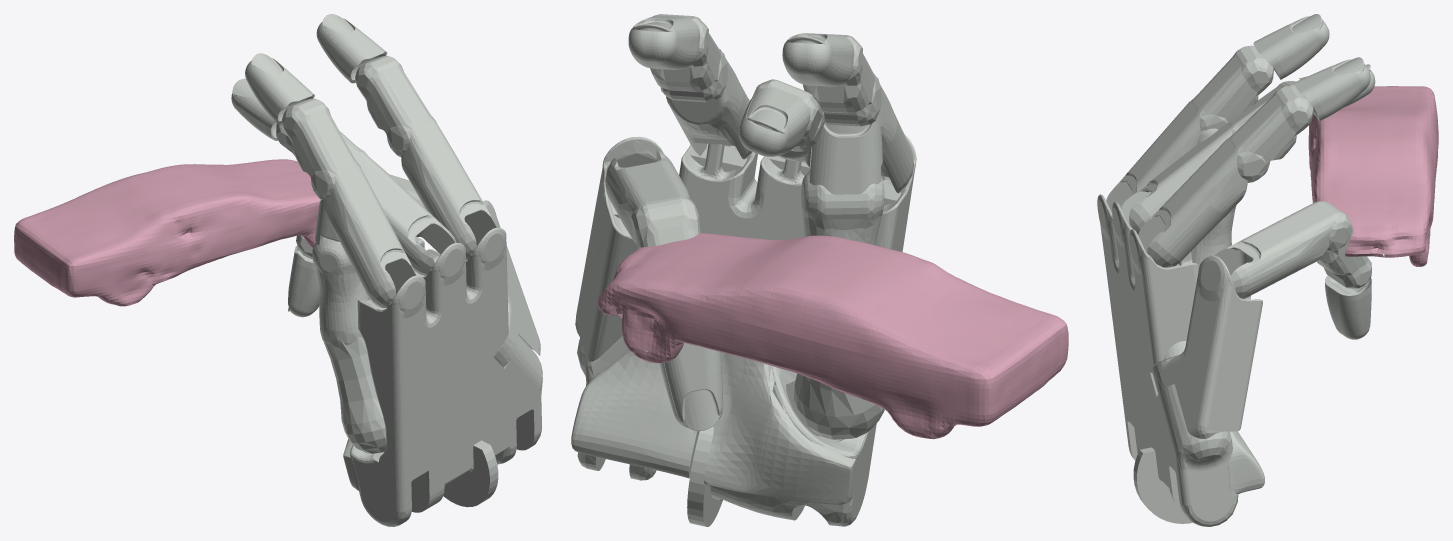
3 views of the same model, side by side, from view 1: azimuth 30°, elevation 25°; view 2: azimuth 150°, elevation 25°; view 3: azimuth 270°, elevation 25° (orthographic). The views are drawn at different scales.
Visible parts, largest first — view 1: hand, world; view 2: hand, world; view 3: hand, world.
Part boxes in pixels (x1,y1,x2,y2): hand: (231,14,542,526); world: (14,159,320,306); hand: (571,14,916,526); world: (597,233,1068,439); hand: (1097,14,1375,526); world: (1308,86,1438,266).
Size of the model in its own units: 0.1811 by 0.1814 by 0.1273.
